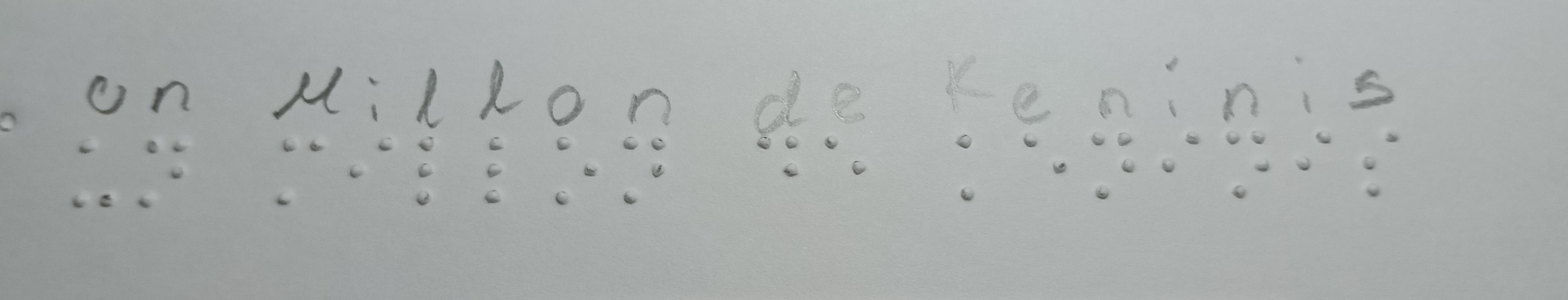d: (738, 123, 809, 188)
e: (1013, 127, 1075, 192), (811, 129, 875, 188)
i: (336, 127, 400, 196), (1278, 121, 1342, 181), (1152, 119, 1202, 194)
k: (946, 129, 1000, 207)
l: (461, 129, 523, 211), (406, 127, 448, 215)
m: (261, 131, 331, 217)
n: (129, 127, 196, 227), (1077, 129, 1148, 206), (615, 131, 671, 219), (1215, 123, 1273, 206)
o: (534, 134, 611, 215)
s: (1352, 129, 1423, 207)
u: (67, 133, 121, 221)
